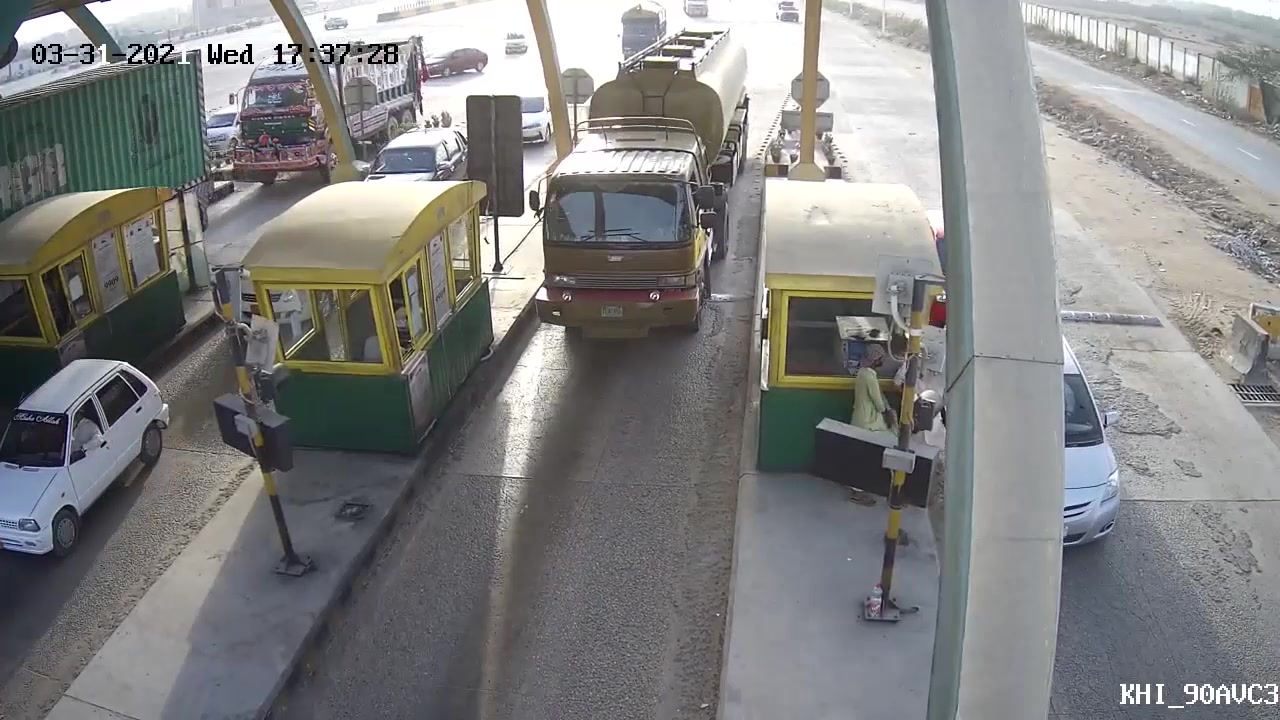F6: (529, 19, 755, 352)
